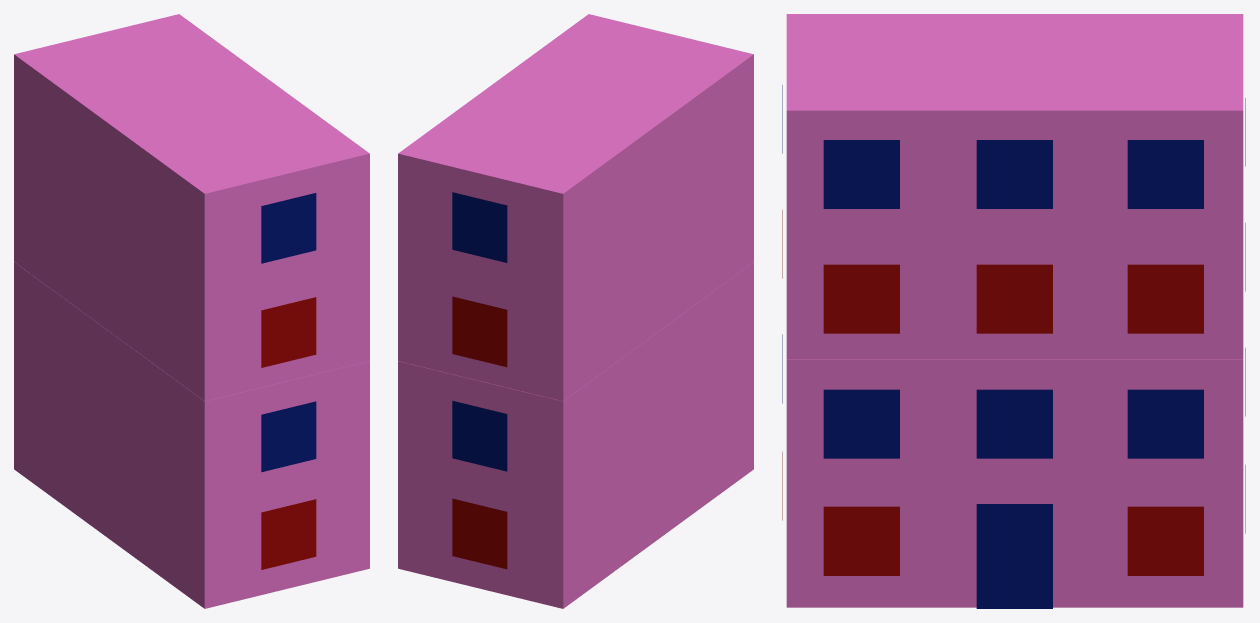
The model's file is building 5.fbx.
3 views of the same model, side by side, from view 1: azimuth 30°, elevation 25°; view 2: azimuth 150°, elevation 25°; view 3: azimuth 270°, elevation 25° (orthographic). The views are drawn at different scales.
Visible parts, largest first — view 1: Cube.018, Cube.016, Cube.017, Cube.015, Plane.061, Plane.060, Plane.062, Plane.059; view 2: Cube.018, Cube.016, Cube.015, Cube.017, Plane.065, Plane.063, Plane.064, Plane.066; view 3: Cube.018, Cube.016, Cube.017, Cube.015, Plane.058, Plane.050, Plane.051, Plane.052, Plane.053, Plane.054, Plane.055, Plane.056 (+4 smaller).
Boxes of the visible parts, x1,y1,x2,y2 form: Cube.018: [14, 14, 369, 297]; Cube.016: [14, 262, 369, 504]; Cube.017: [14, 158, 369, 401]; Cube.015: [14, 366, 369, 608]; Plane.061: [261, 401, 316, 472]; Plane.060: [261, 297, 316, 367]; Plane.062: [261, 499, 316, 569]; Plane.059: [261, 193, 316, 263]; Cube.018: [398, 14, 753, 297]; Cube.016: [398, 262, 753, 504]; Cube.015: [398, 366, 753, 608]; Cube.017: [398, 158, 753, 401]; Plane.065: [452, 400, 507, 471]; Plane.063: [452, 192, 507, 262]; Plane.064: [452, 296, 507, 367]; Plane.066: [452, 498, 507, 569]; Cube.018: [786, 14, 1243, 234]; Cube.016: [786, 359, 1243, 483]; Cube.017: [786, 234, 1243, 358]; Cube.015: [786, 483, 1243, 607]; Plane.058: [976, 504, 1052, 608]; Plane.050: [823, 264, 899, 333]; Plane.051: [976, 264, 1052, 333]; Plane.052: [1127, 264, 1203, 333]; Plane.053: [823, 389, 899, 458]; Plane.054: [976, 389, 1052, 458]; Plane.055: [1127, 389, 1203, 458]; Plane.056: [823, 506, 899, 575].
Bounding box in the file's own units: 602 × 1444 × 1218.
